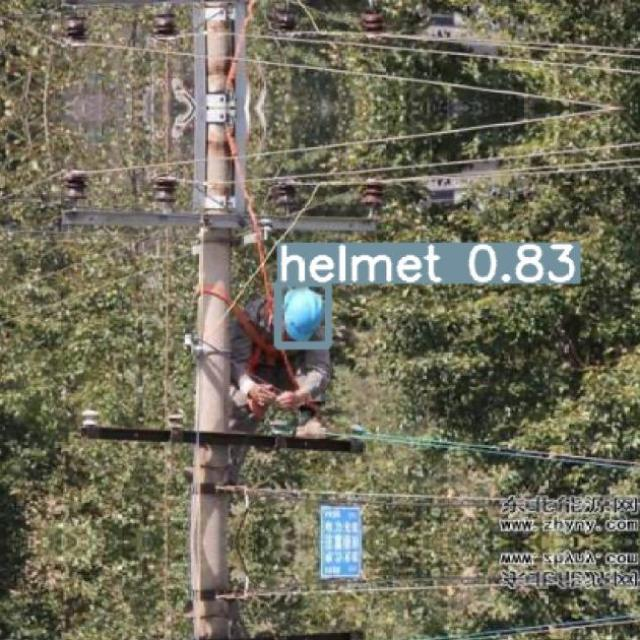helmet: (281, 286, 323, 341)
